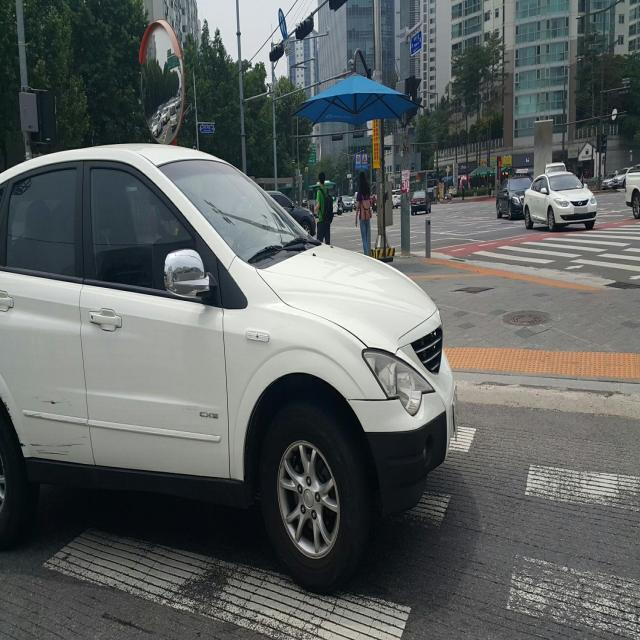횡단보도: (42, 422, 640, 640), (467, 218, 640, 288)
